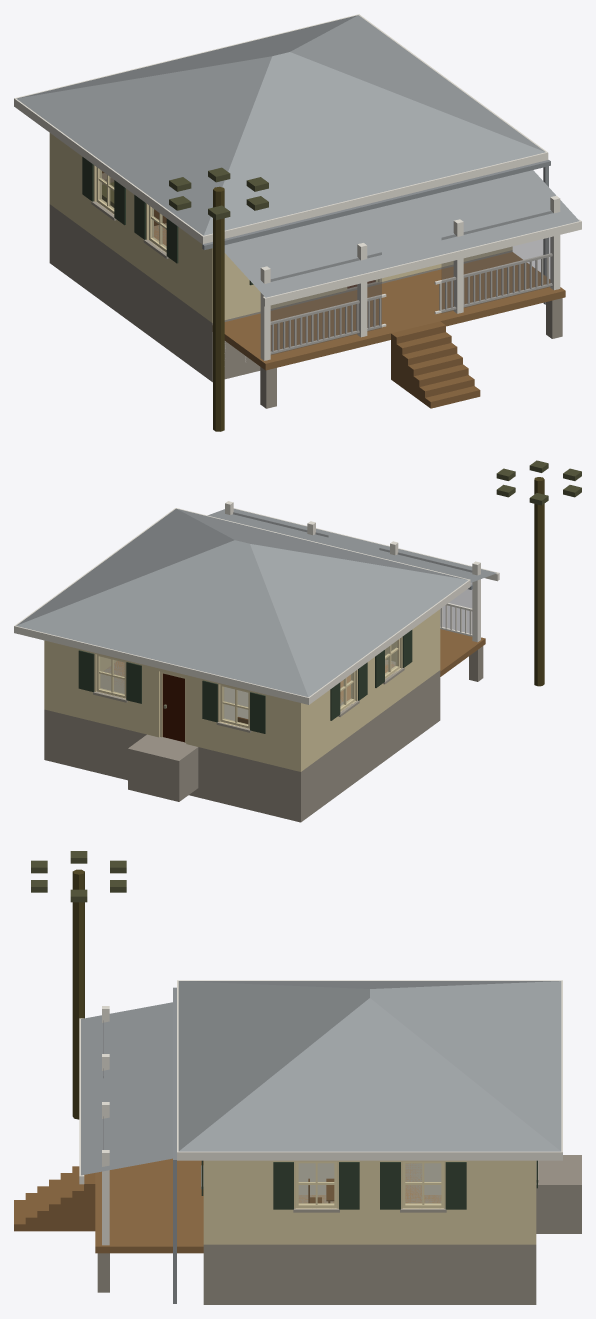
File: beach.glb
3 renders of one model, top to bottom at view 1: azimuth 30°, elevation 25°; view 2: azimuth 150°, elevation 25°; view 3: azimuth 270°, elevation 25°, orthographic. The views are drawn at different scales.
Parts seen in each view (by area): view 1: LOD0; view 2: LOD0, LEAF1; view 3: LOD0.
Boxes of the visible parts, x1,y1,x2,y2 form: LOD0: [14, 14, 581, 431]; LOD0: [14, 460, 581, 822]; LEAF1: [162, 673, 184, 742]; LOD0: [14, 851, 581, 1304].
Size of what is drawn, in the model's own units: 12.01 by 6.8 by 13.66.
